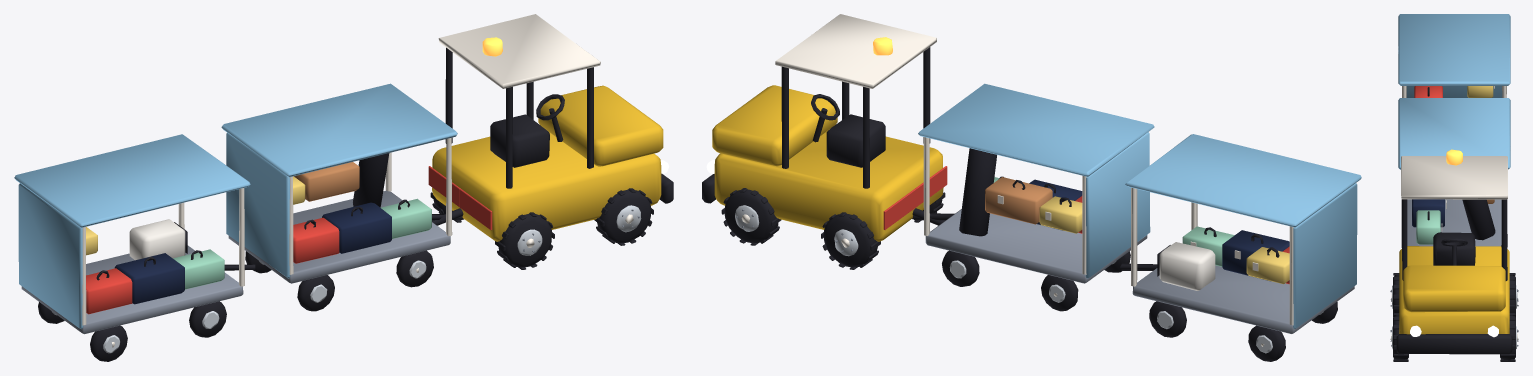
The model's file is baggage_tug.glb.
3 renders of one model, left to right at view 1: azimuth 30°, elevation 25°; view 2: azimuth 150°, elevation 25°; view 3: azimuth 270°, elevation 25°, orthographic. The views are drawn at different scales.
Parts seen in each view (by area): view 1: baggage_tug; view 2: baggage_tug; view 3: baggage_tug.
Boxes of the visible parts, left/top/right/bottom form: baggage_tug: left=14, top=14, right=673, bottom=361; baggage_tug: left=702, top=14, right=1361, bottom=361; baggage_tug: left=1390, top=14, right=1518, bottom=361.
Size of the model in its own units: 6.63 by 2.14 by 1.49.
1 material, 1 textured.
